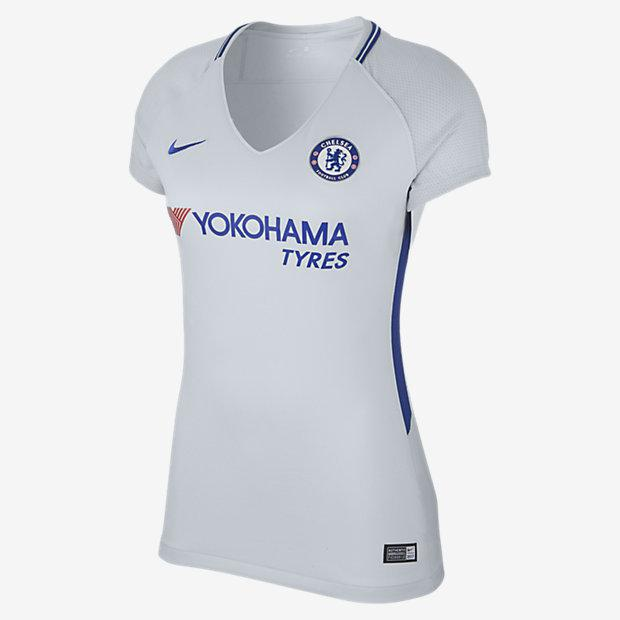teeshirt: (8, 8, 612, 612)
